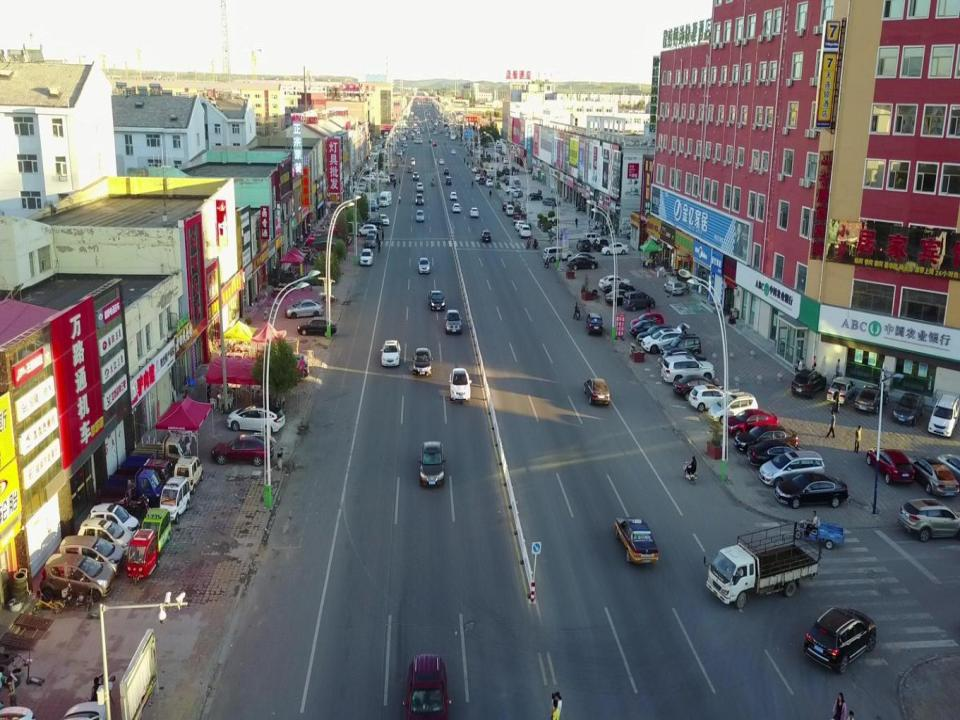car: (804, 605, 877, 674), (38, 552, 115, 604), (402, 652, 452, 720), (56, 536, 125, 580), (774, 472, 850, 509), (897, 498, 960, 541), (74, 517, 134, 560), (759, 450, 825, 487), (905, 454, 959, 498), (614, 516, 659, 566), (85, 503, 142, 542), (210, 433, 275, 466), (866, 446, 916, 486), (734, 424, 798, 455), (746, 438, 812, 468), (226, 403, 286, 435), (708, 390, 760, 426), (724, 408, 781, 438), (660, 355, 716, 384), (641, 323, 692, 354), (927, 393, 960, 438), (262, 353, 310, 383), (688, 384, 739, 412), (418, 440, 446, 490), (673, 374, 724, 401), (892, 391, 926, 428), (790, 367, 827, 399), (660, 348, 708, 371), (854, 383, 889, 414), (826, 375, 857, 406), (448, 367, 472, 403), (297, 316, 338, 337), (935, 452, 960, 486), (284, 298, 324, 319), (636, 326, 678, 346), (584, 378, 610, 406), (630, 312, 664, 332), (629, 320, 666, 337), (412, 348, 434, 376), (605, 288, 638, 306), (380, 339, 401, 367), (598, 275, 632, 292), (602, 280, 636, 296), (444, 309, 462, 334), (567, 252, 595, 268), (585, 312, 604, 335), (567, 256, 598, 270), (428, 290, 446, 311), (627, 227, 656, 240), (601, 242, 629, 255), (663, 280, 684, 296), (361, 216, 384, 230), (551, 246, 573, 260), (356, 224, 378, 237), (592, 236, 609, 252), (360, 248, 374, 266), (417, 257, 431, 274), (576, 237, 591, 252), (547, 227, 563, 239), (364, 232, 376, 248), (361, 202, 379, 212), (542, 198, 561, 207), (519, 225, 531, 238), (480, 229, 491, 243), (378, 214, 390, 226), (514, 220, 526, 232), (506, 186, 522, 195), (526, 192, 543, 200), (367, 229, 377, 242), (360, 174, 376, 182), (368, 170, 384, 177), (470, 207, 480, 217), (415, 194, 424, 205), (499, 175, 513, 182), (416, 210, 424, 222), (364, 169, 380, 175), (502, 176, 515, 183), (452, 203, 461, 213), (449, 191, 457, 201), (513, 190, 523, 198), (505, 180, 518, 186), (412, 172, 420, 181), (389, 172, 396, 182), (485, 179, 493, 187), (416, 183, 423, 192), (445, 176, 452, 185), (513, 212, 520, 221), (478, 178, 486, 184), (407, 166, 413, 173), (443, 168, 449, 175), (472, 167, 479, 173), (503, 157, 509, 163), (439, 158, 444, 165), (402, 142, 408, 147), (398, 151, 403, 156), (451, 149, 456, 154), (433, 141, 437, 147), (401, 141, 405, 146), (378, 135, 382, 139), (411, 136, 415, 140), (440, 129, 443, 133)
truck: (703, 520, 822, 611), (130, 435, 189, 476), (117, 452, 174, 493), (104, 467, 165, 505), (378, 191, 392, 207), (509, 175, 521, 189)
van: (660, 336, 702, 359), (622, 290, 656, 311), (543, 246, 567, 262), (584, 232, 604, 246), (505, 204, 514, 217), (502, 199, 511, 211), (378, 176, 390, 184), (494, 145, 505, 151), (413, 138, 422, 143), (475, 174, 481, 181), (411, 157, 415, 165)
